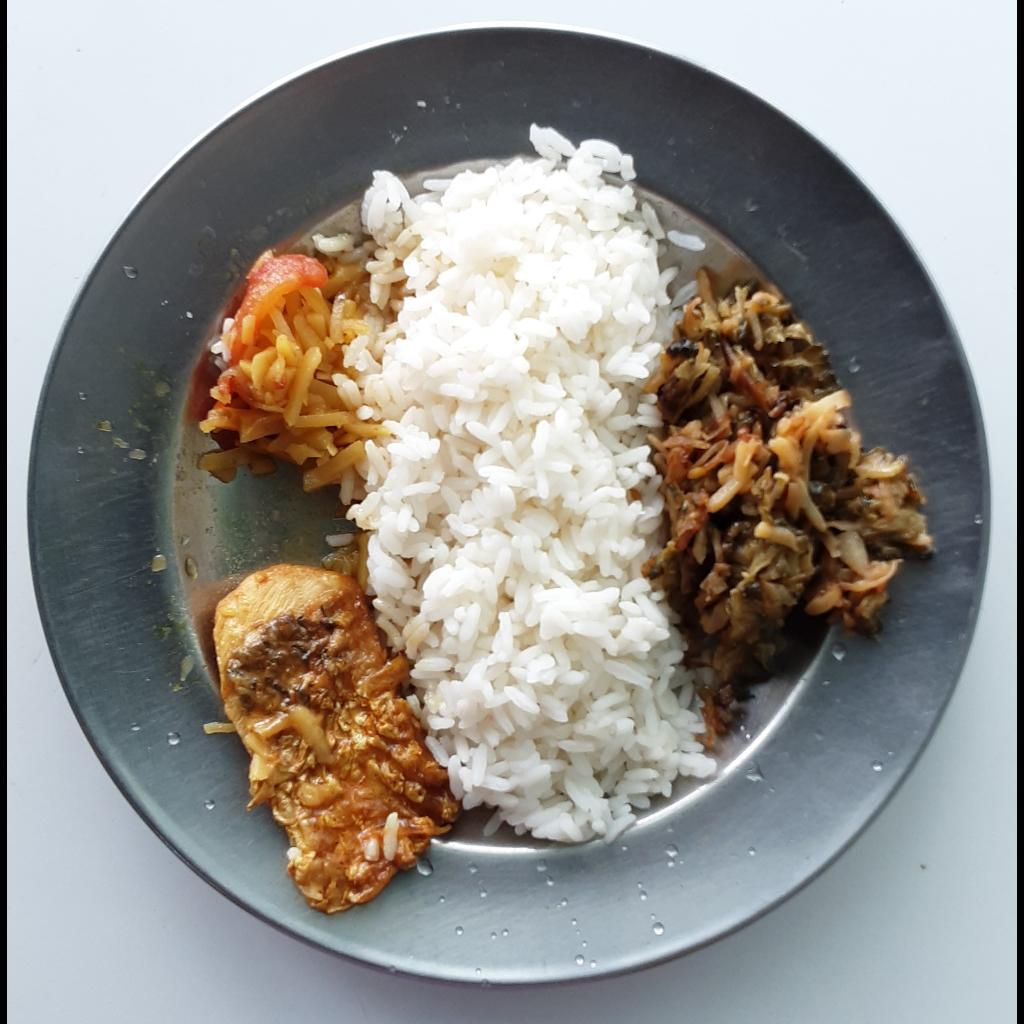fish: (210, 542, 458, 914)
potato: (198, 263, 386, 489)
rice: (313, 120, 716, 844)
tomato: (214, 253, 328, 403)
vegetable: (644, 271, 933, 744)
